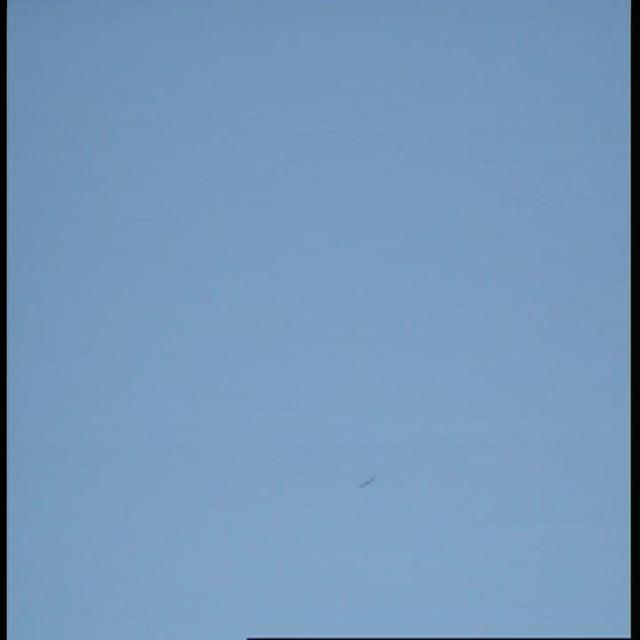drone: (354, 469, 378, 492)
